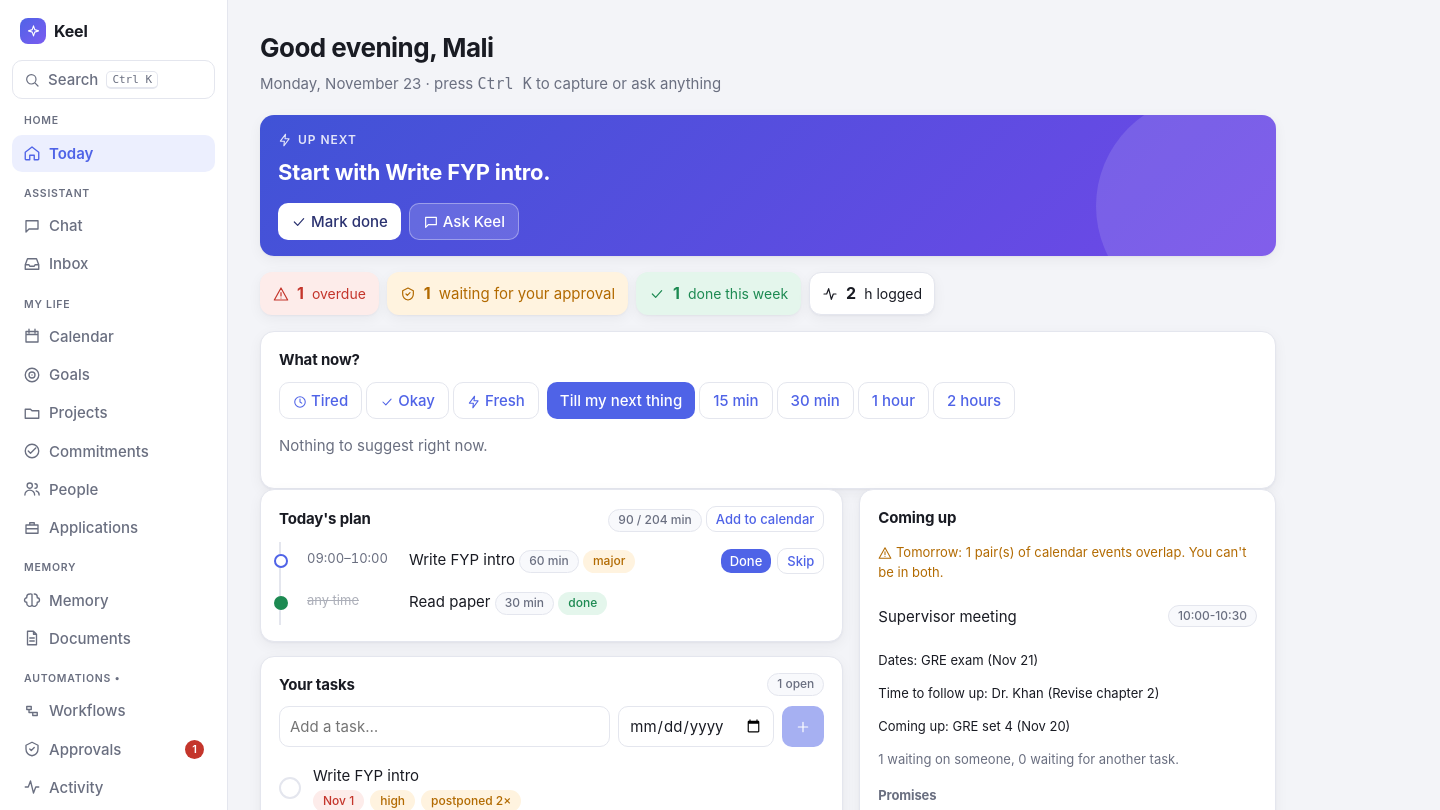
Test: dashboard smoke tests › Home: tick a task to finish it with Undo, and add a task right there
Click the button named "Done: Write FYP intro" at {"x": 290, "y": 788}, box [279,777,301,799]
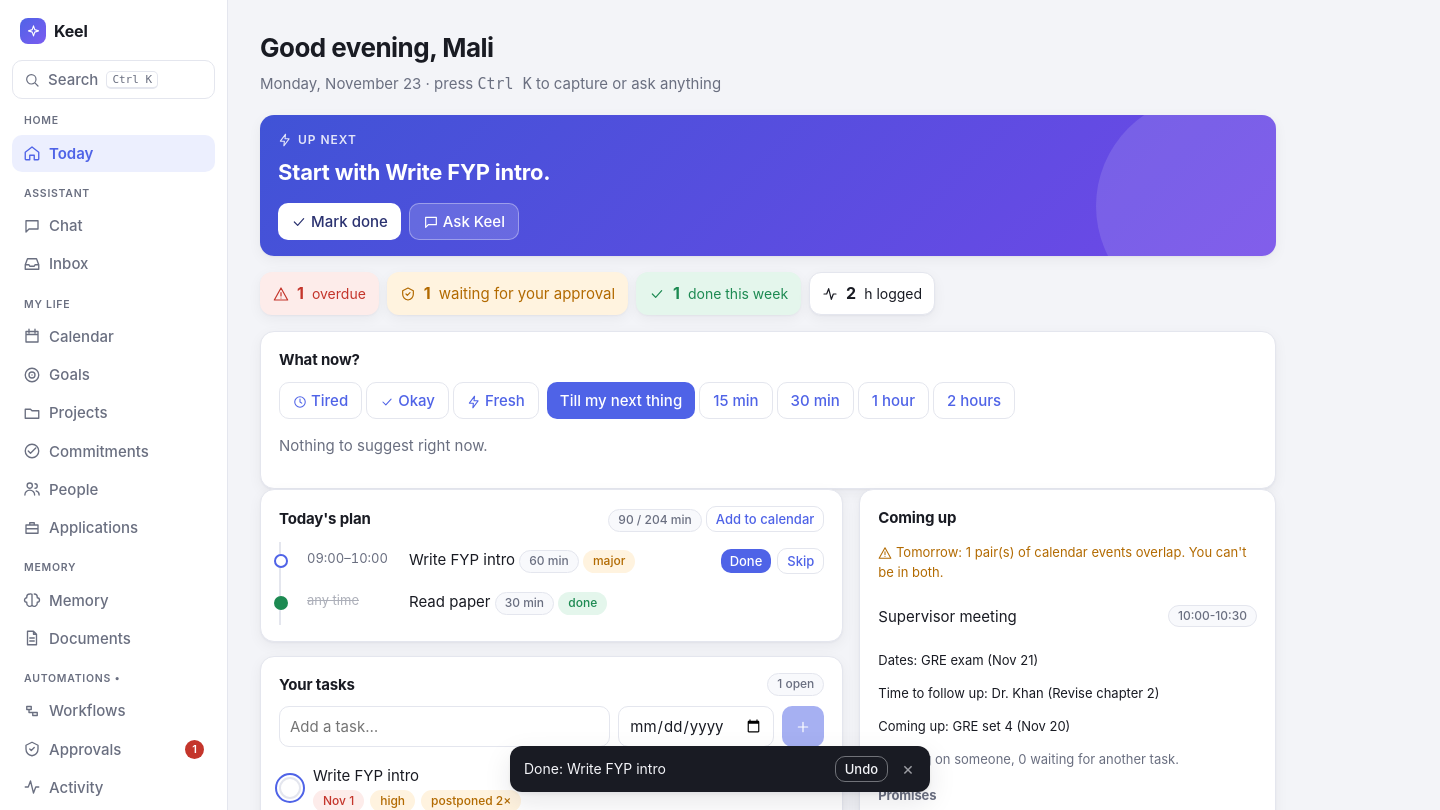
Click the button "Undo" at {"x": 861, "y": 769}, box [835,756,888,782]
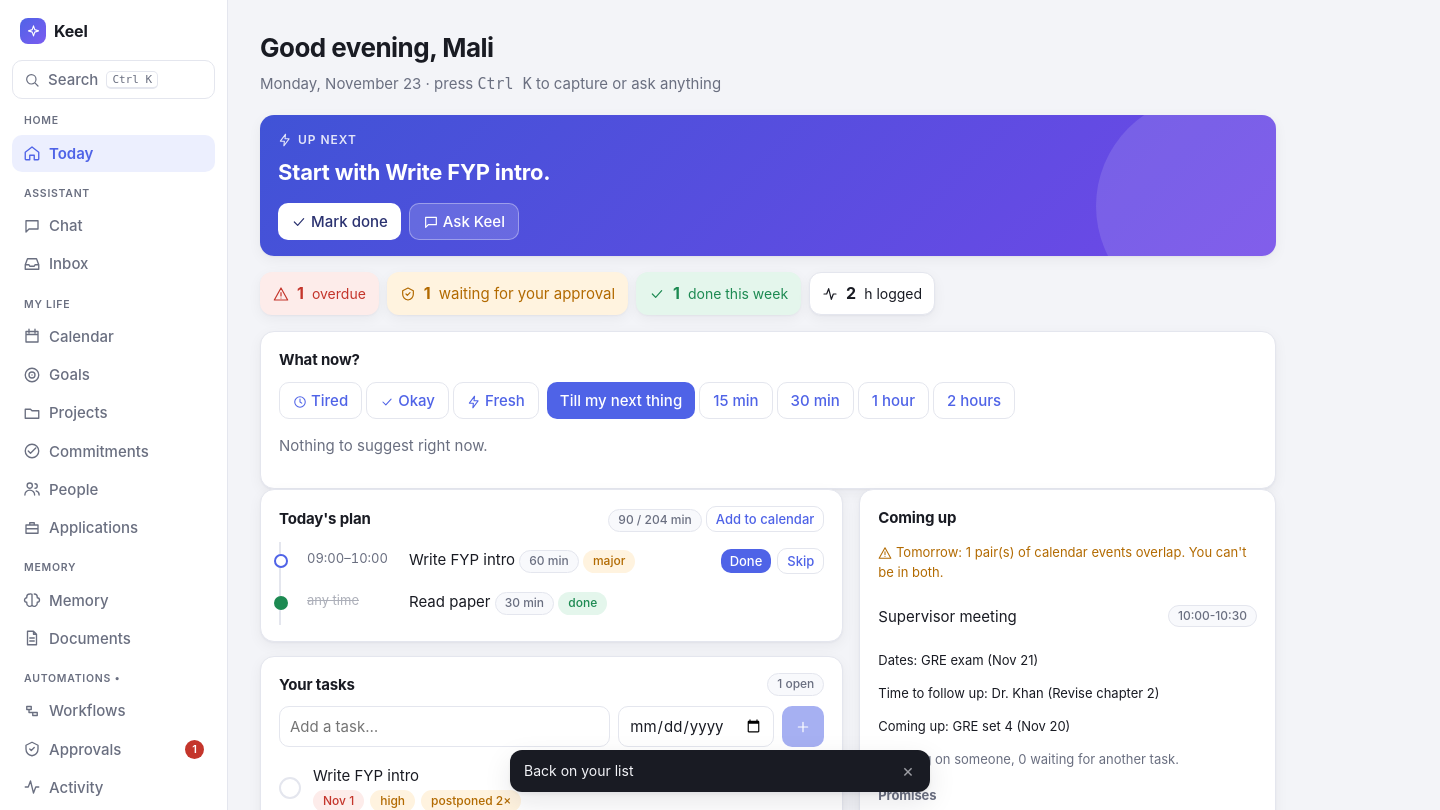
Type "Renew passport" into the field named "New task" at {"x": 445, "y": 727}, box [279,706,610,748]
Then press Enter
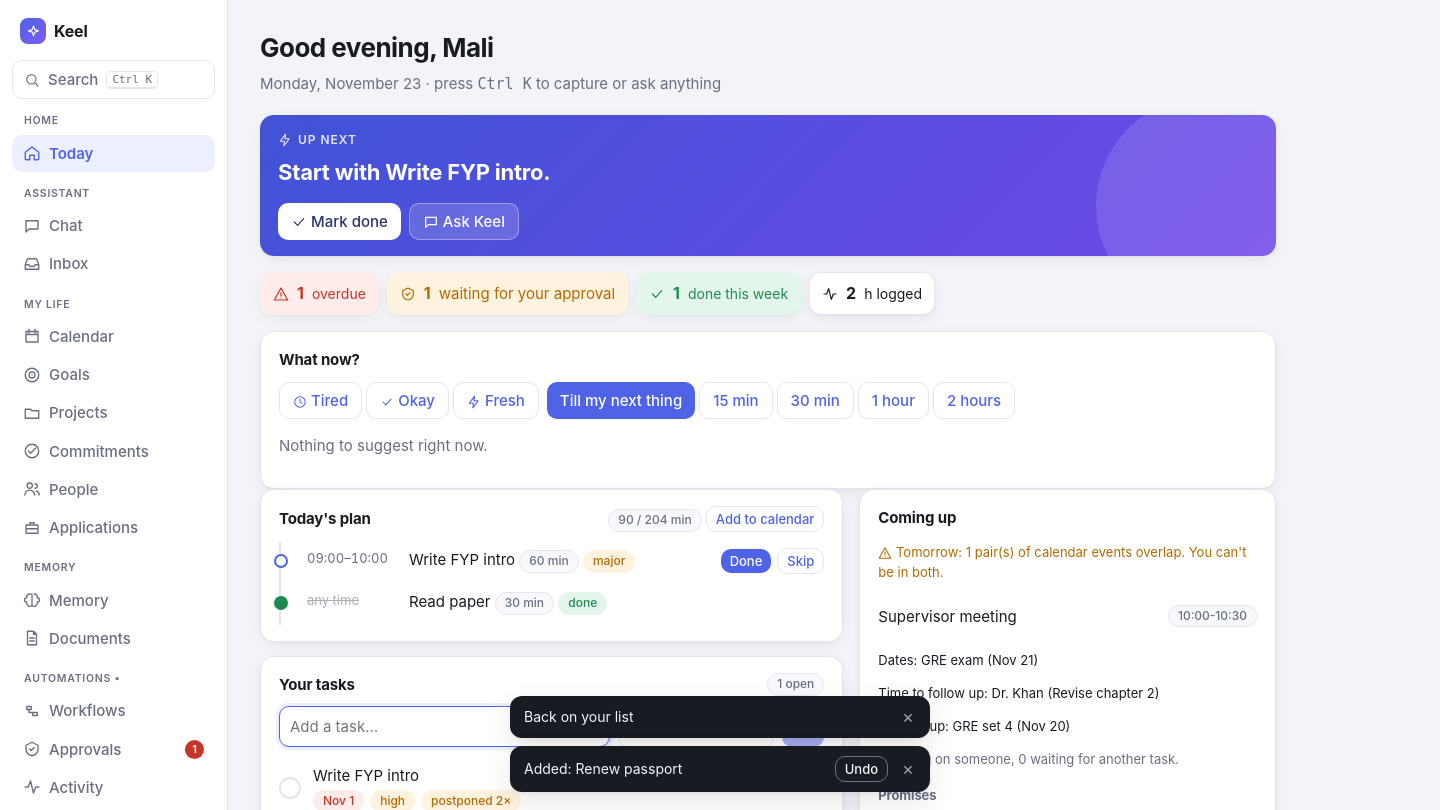
Result: the text "Added: Renew passport" is shown at [524,760,682,777]
